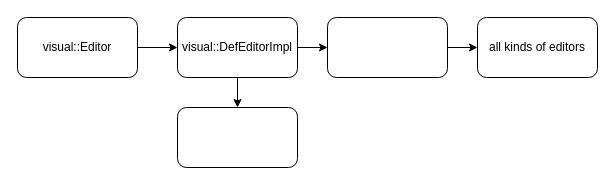
Some shapes in this 615 by 185 pixel diagram are drawn without their labels. Here are the shapes that lost their labels. From the top down, the box of each, then its label:
(326, 16, 448, 78): visual::DragEditor
(176, 106, 298, 168): visual::PickEditor
